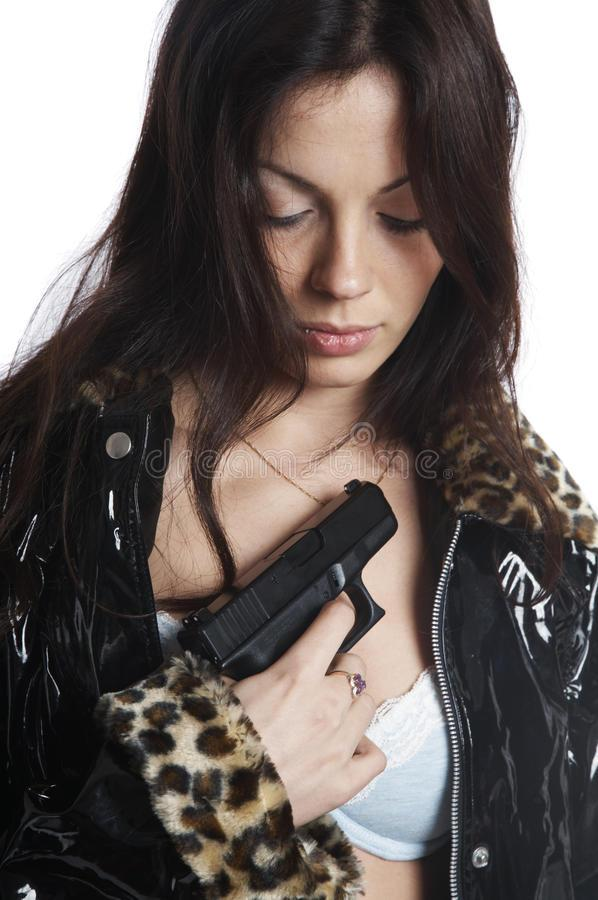criminal: (0, 0, 598, 900)
weapon: (178, 472, 404, 690)
